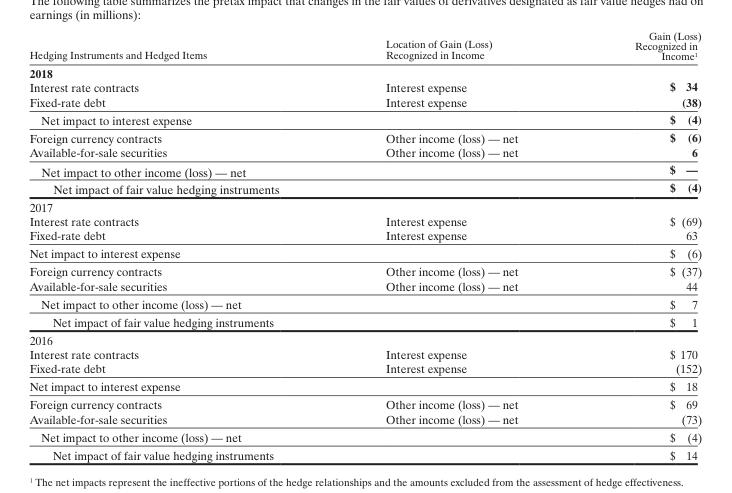table: (28, 28, 701, 461)
table column: (28, 28, 331, 461), (331, 28, 575, 461), (575, 28, 701, 461)
table column header: (28, 28, 701, 64)
table projected row header: (28, 197, 701, 213), (28, 330, 701, 346), (28, 64, 701, 79)
table row: (28, 28, 701, 64), (28, 160, 701, 179), (28, 110, 701, 128), (28, 179, 701, 197), (28, 244, 701, 262), (28, 294, 701, 312), (28, 312, 701, 330), (28, 377, 701, 395), (28, 427, 701, 445), (28, 128, 701, 145), (28, 227, 701, 244), (28, 360, 701, 377), (28, 94, 701, 110), (28, 197, 701, 213), (28, 262, 701, 278), (28, 278, 701, 294), (28, 330, 701, 346), (28, 395, 701, 411), (28, 411, 701, 427), (28, 445, 701, 461), (28, 64, 701, 79), (28, 79, 701, 94), (28, 145, 701, 160), (28, 213, 701, 227), (28, 346, 701, 360)
